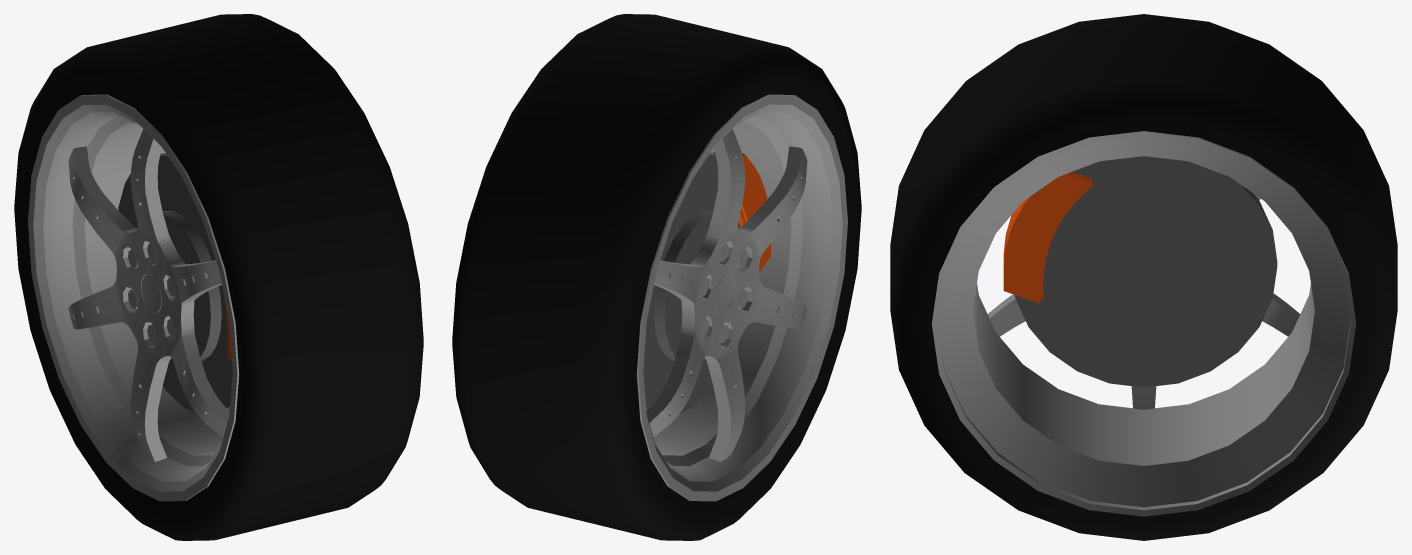
File: Nissan_350Z_Rueda.obj
3 views of the same model, side by side, from view 1: azimuth 30°, elevation 25°; view 2: azimuth 150°, elevation 25°; view 3: azimuth 270°, elevation 25° (orthographic).
Visible parts, largest first — view 1: Cube_003; view 2: Cube_003; view 3: Cube_003.
Boxes of the visible parts, <box> form: Cube_003: <box>14,14,423,540</box>; Cube_003: <box>452,14,861,540</box>; Cube_003: <box>890,14,1397,540</box>.
Bounding box in the file's own units: 1.42 × 3.46 × 3.46.
